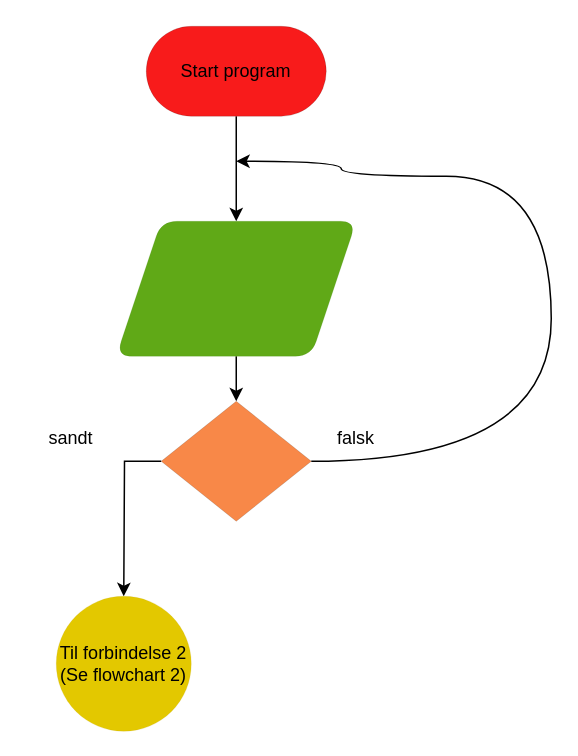
This 578x756 diagram has some shape labels left out. Each missing label, with the centre of its shape:
"Bevæger mus hvor en af figurene følger med" belongs at (236,288).
"Kollidere objekterne" belongs at (235,460).
